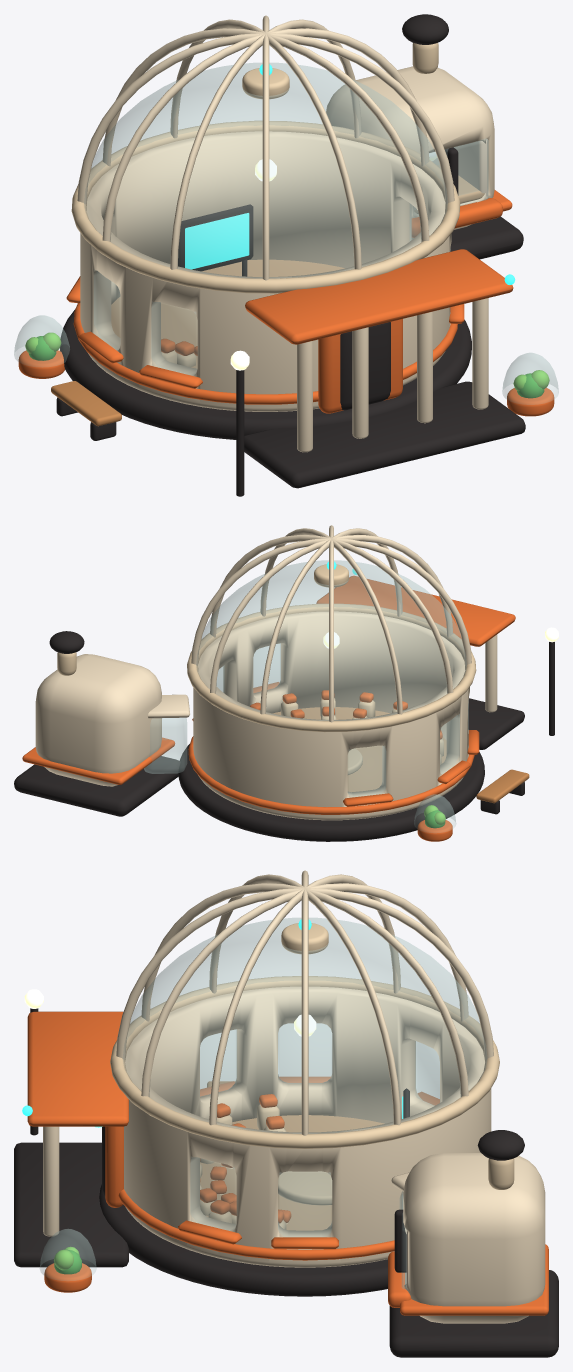
The model's file is university-b.glb.
3 views of the same model, one above another, from view 1: azimuth 30°, elevation 25°; view 2: azimuth 150°, elevation 25°; view 3: azimuth 270°, elevation 25° (orthographic). The views are drawn at different scales.
Parts seen in each view (by area): view 1: Cube.012, Cube, Cube.010, Cube.001, Cube.013, Cube.068, Cube.011, Cube.071, Cube.067, Sphere.010, Cube.076, Sphere; view 2: Cube.012, Cube, Cube.010, Cube.001, Cube.013, Cube.068, Cube.071; view 3: Cube.012, Cube, Cube.010, Cube.001, Cube.013, Cube.068, Sphere.
Part boxes in pixels (x1=…): Cube.012: x1=77, y1=15, x2=494, y2=452; Cube: x1=14, y1=62, x2=558, y2=404; Cube.010: x1=56, y1=14, x2=525, y2=496; Cube.001: x1=18, y1=190, x2=554, y2=416; Cube.013: x1=71, y1=43, x2=460, y2=367; Cube.068: x1=111, y1=165, x2=484, y2=368; Cube.011: x1=185, y1=64, x2=515, y2=284; Cube.071: x1=51, y1=381, x2=121, y2=426; Cube.067: x1=413, y1=139, x2=487, y2=209; Sphere.010: x1=25, y1=332, x2=549, y2=391; Cube.076: x1=28, y1=336, x2=544, y2=398; Sphere: x1=230, y1=152, x2=437, y2=370; Cube.012: x1=35, y1=525, x2=497, y2=820; Cube: x1=144, y1=560, x2=468, y2=832; Cube.010: x1=14, y1=631, x2=554, y2=841; Cube.001: x1=22, y1=576, x2=515, y2=841; Cube.013: x1=57, y1=564, x2=476, y2=774; Cube.068: x1=272, y1=707, x2=446, y2=792; Cube.071: x1=476, y1=769, x2=529, y2=803; Cube.012: x1=43, y1=870, x2=545, y2=1323; Cube: x1=39, y1=917, x2=486, y2=1289; Cube.010: x1=14, y1=1008, x2=558, y2=1357; Cube.001: x1=27, y1=1011, x2=548, y2=1315; Cube.013: x1=110, y1=923, x2=514, y2=1229; Cube.068: x1=200, y1=1115, x2=384, y2=1230; Sphere: x1=24, y1=989, x2=316, y2=1036.
Bounding box in the file's own units: 1.78 × 1.06 × 1.61.
